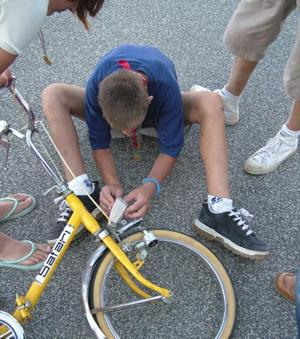person: (42, 46, 270, 261)
